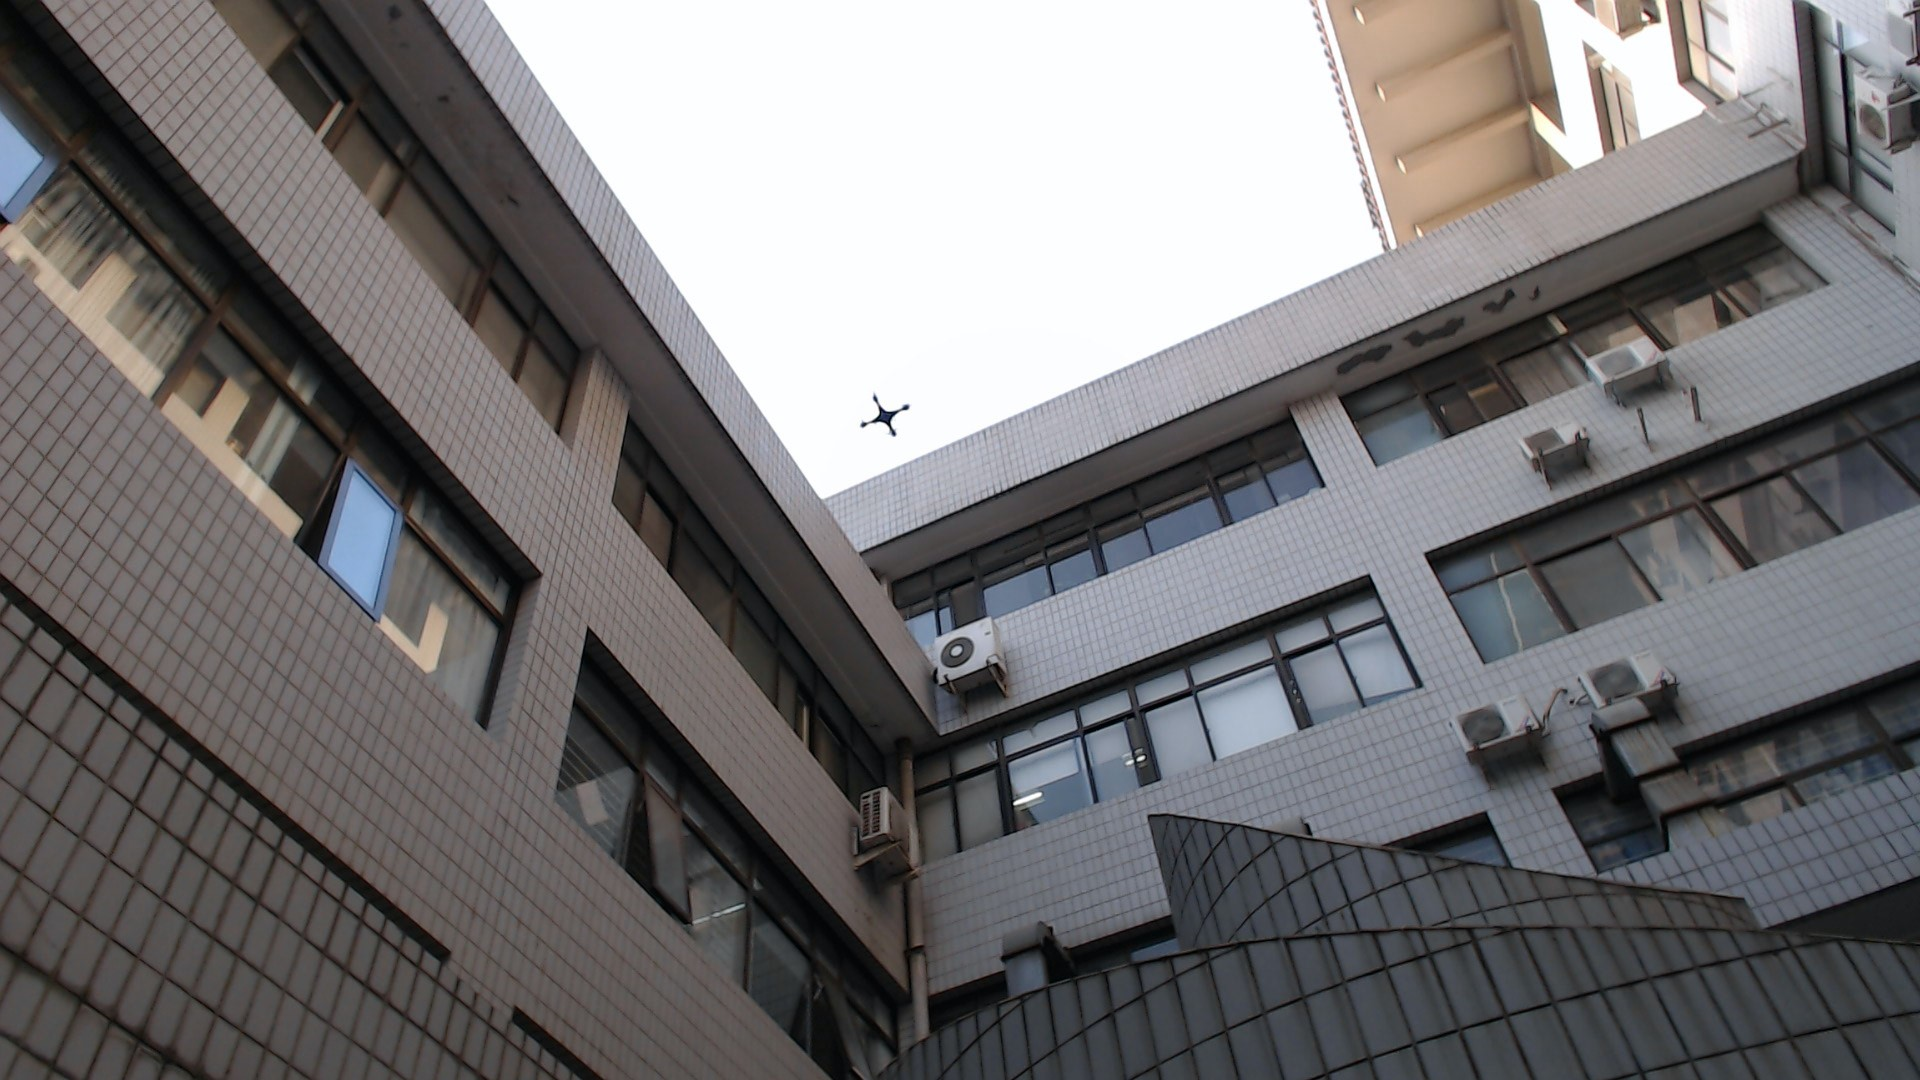drone: (839, 375, 930, 454)
